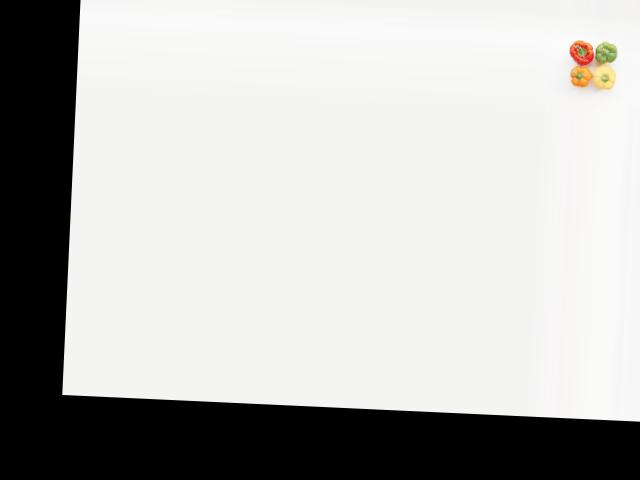bell_pepper: (589, 39, 624, 66)
